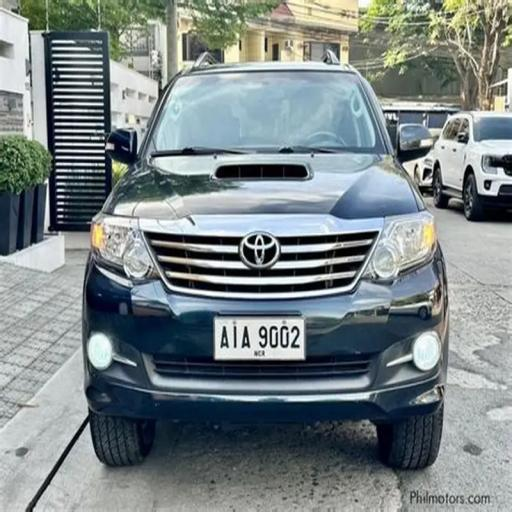number-plates: (213, 315, 302, 351)
